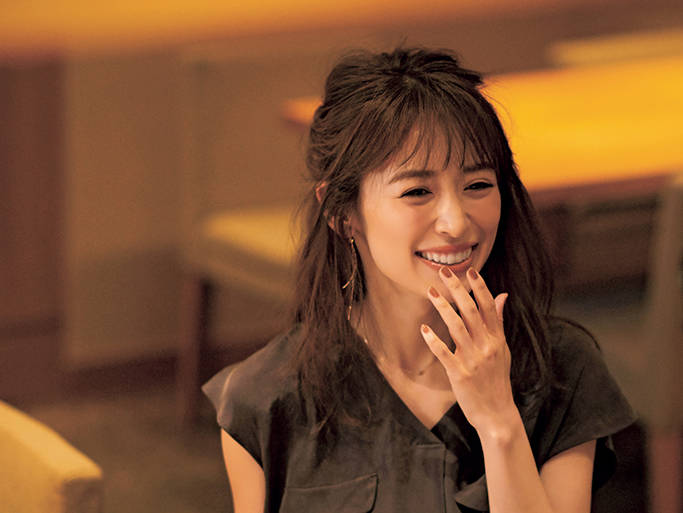face: (312, 109, 502, 304)
hand: (420, 264, 528, 426)
